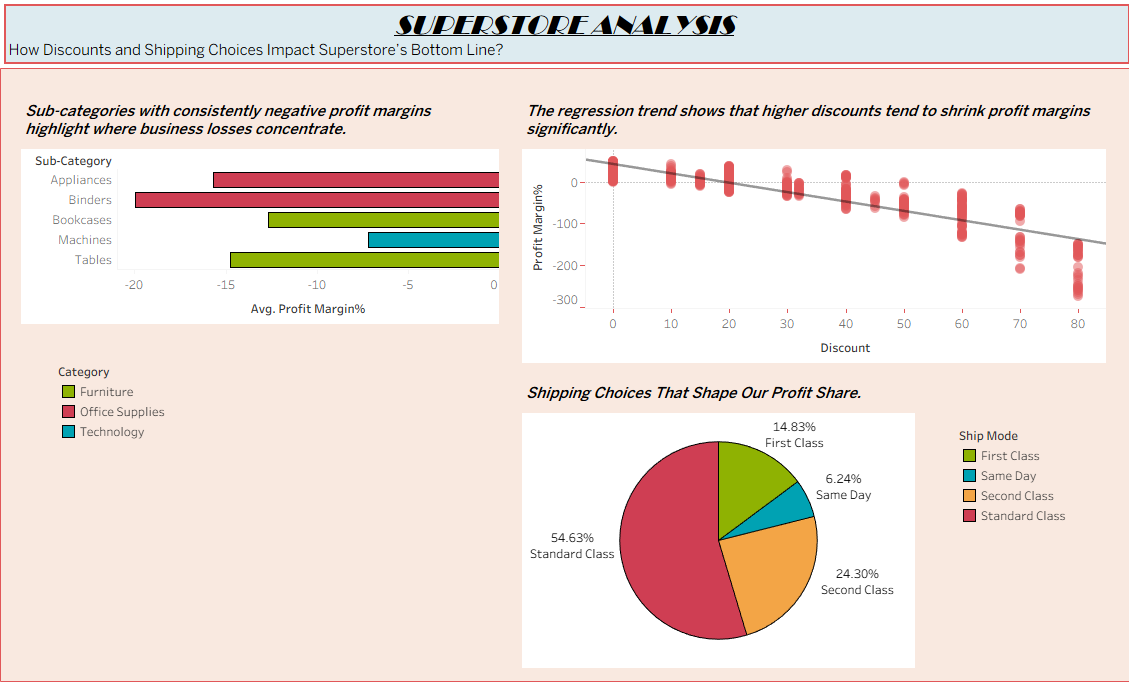

This screenshot's page, from the dashboard's own definition file:
{"tool":"tableau","page":{"name":"Dashboard 1","canvas":[1000,1000],"units":"permille","ordinal":0},"visuals":[{"type":"title","box":[7,14.3,986,121.4]},{"type":"worksheet","title":"Sheet 1","mark":"Automatic","rows":["Sub-Category"],"cols":["Profit_Margin%"],"box":[25.5,151.8,415.3,421.4]},{"type":"worksheet","title":"Sheet 2","mark":"Circle","rows":["Profit_Margin%"],"cols":["Discount"],"box":[460.9,151.8,507.5,391.1]},{"type":"legend","title":"Sheet 1","param":"[federated.1wwb3x217d3kay14ucsaa0hiz8at].[none:Category:nk]","box":[57.1,532.1,122.9,139.3]},{"type":"worksheet","title":"Sheet 3","mark":"Pie","box":[460.9,555.4,341.5,412.5]},{"type":"legend","title":"Sheet 3","param":"[federated.1wwb3x217d3kay14ucsaa0hiz8at].[none:Ship Mode:nk]","box":[841.1,623.2,122.9,175]}]}

Visuals, with their boxes on the dashboard's canvas, which has no fixed pixel size, in thousandths of its width and height (x1, y1, x2, y2). These are canvas units, not pixel positions in the 1129x688 screenshot, which may show the page scaled, cropped or inside an application window:
title: x1=7 y1=14 x2=993 y2=136
"Sheet 1" worksheet: x1=26 y1=152 x2=441 y2=573
"Sheet 2" worksheet (Circle marks): x1=461 y1=152 x2=968 y2=543
"Sheet 1" legend: x1=57 y1=532 x2=180 y2=671
"Sheet 3" worksheet (Pie marks): x1=461 y1=555 x2=802 y2=968
"Sheet 3" legend: x1=841 y1=623 x2=964 y2=798
